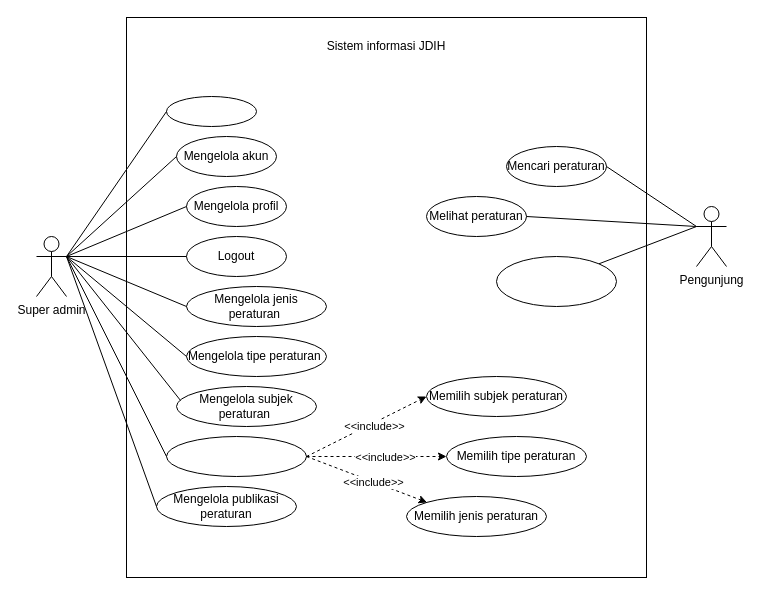
The diagram is 760 pixels wide and 595 high, and some of its shapes have lost their labels. The centre of each missing label's shape, as x and y in pixels:
Login: the point at 211,111
Melihat detail peraturan: the point at 556,281
Mengelola peraturan: the point at 236,456
